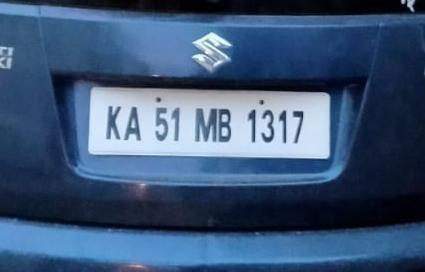1: (244, 105, 258, 144), (170, 104, 183, 144), (277, 107, 289, 145)
3: (257, 110, 277, 144)
5: (150, 98, 171, 144)
7: (290, 108, 307, 145)
A: (122, 101, 142, 145)
B: (218, 104, 233, 145)
K: (101, 98, 121, 146)
M: (194, 105, 218, 143)
